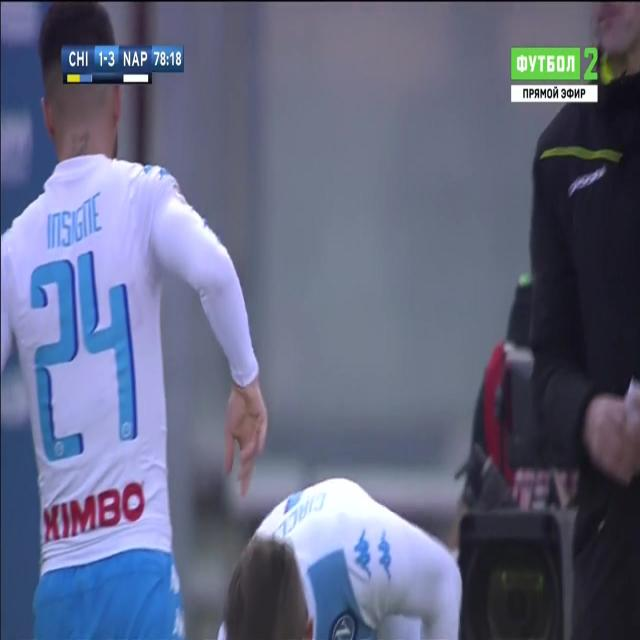Player: (0, 0, 271, 640), (216, 472, 468, 637)
